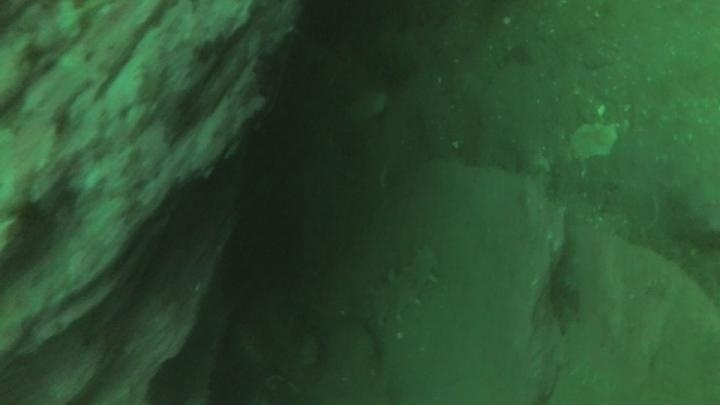holothurian: (356, 239, 444, 331)
